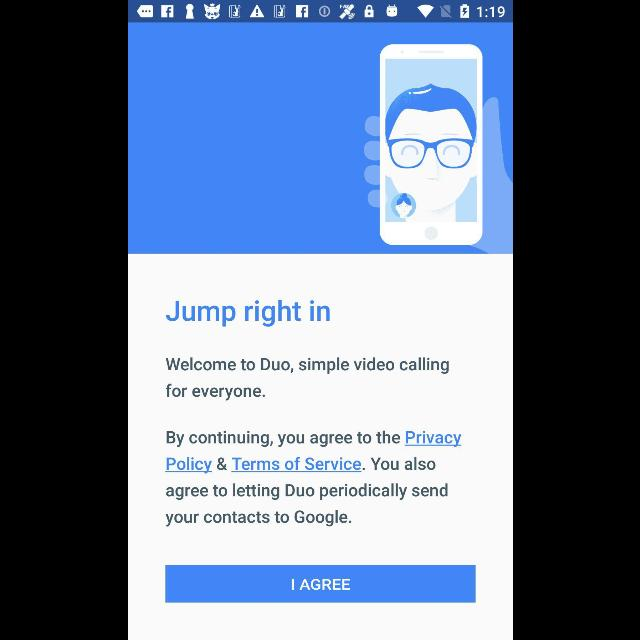image: (128, 23, 512, 253)
text: (165, 430, 462, 528), (165, 358, 448, 400), (165, 300, 329, 328)
textbutton: (165, 566, 475, 602)
uppertaskbar: (128, 1, 512, 23)
